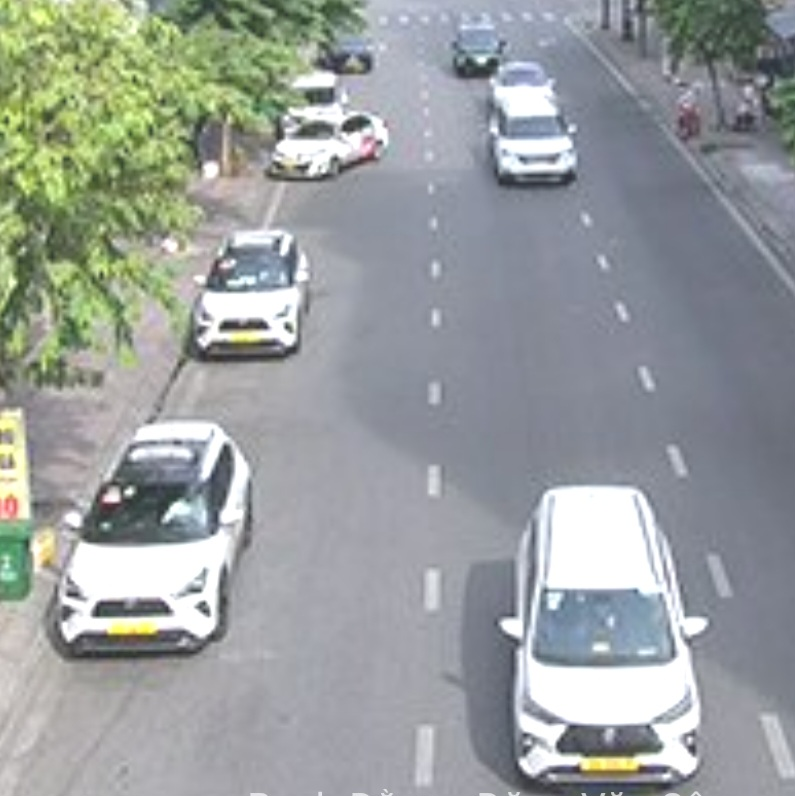car: (511, 486, 704, 786), (53, 414, 250, 660), (194, 227, 312, 360), (491, 93, 579, 186), (275, 115, 391, 181), (455, 24, 503, 72)
